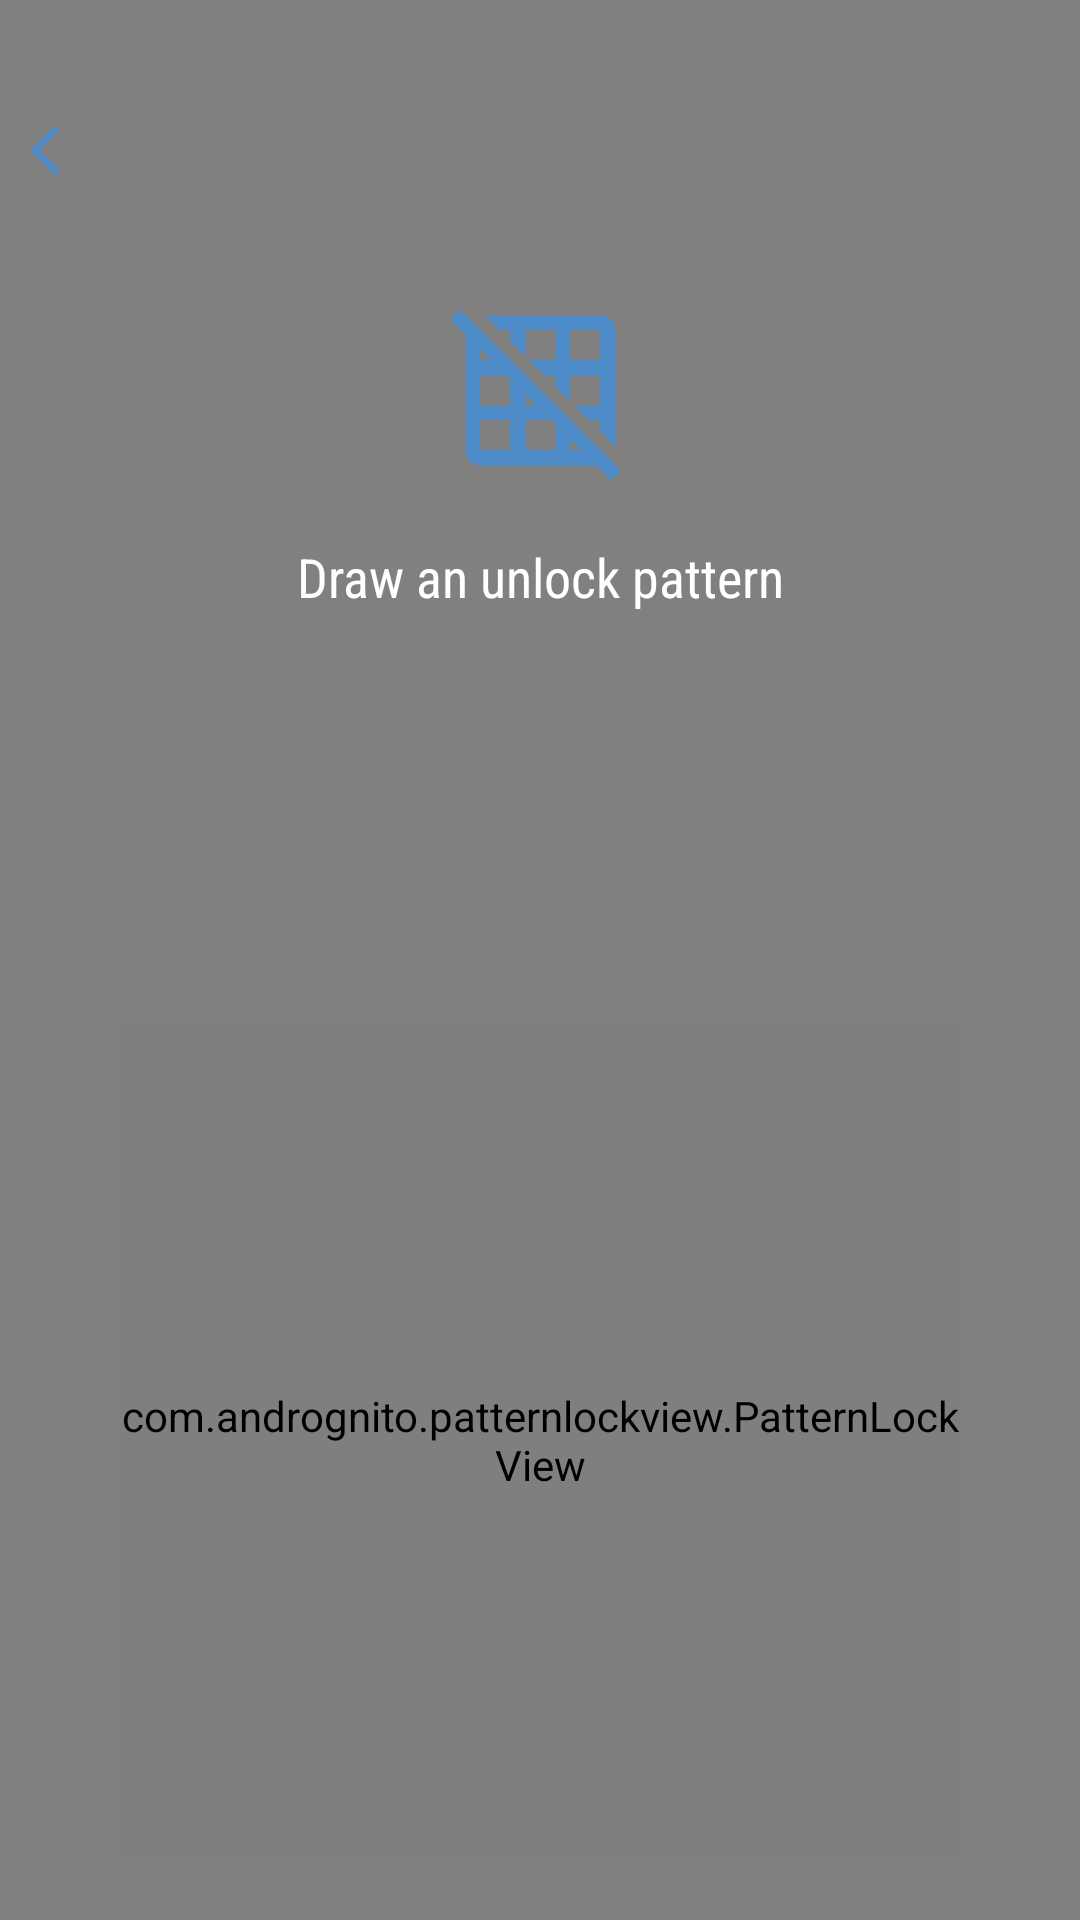

Point at icon controls on the screen. Image size 1080px x 1920px, points as [x,y].
back: [44,150]
